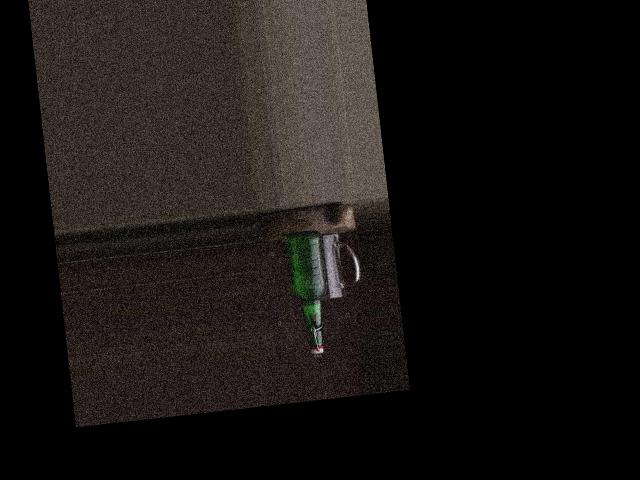beer: (286, 229, 334, 355)
